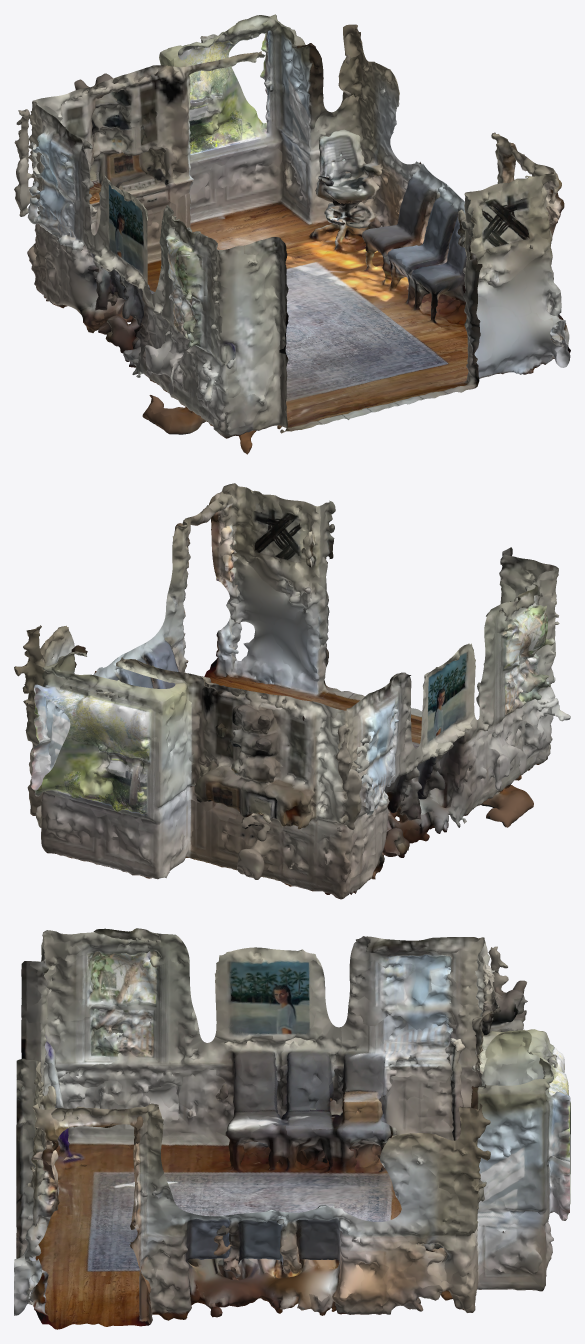
The model's file is room.obj.
The picture shows the model from 3 angles, top to bottom: view 1: azimuth 30°, elevation 25°; view 2: azimuth 150°, elevation 25°; view 3: azimuth 270°, elevation 25°; orthographic projection. The views are drawn at different scales.
Visible parts, largest first — view 1: Object; view 2: Object; view 3: Object.
Part boxes in pixels (x1,y1,x2,y2): Object: (14, 14, 570, 454); Object: (14, 483, 570, 899); Object: (14, 928, 570, 1329).
Size of the model in its own units: 4.49 by 2.54 by 5.38.
